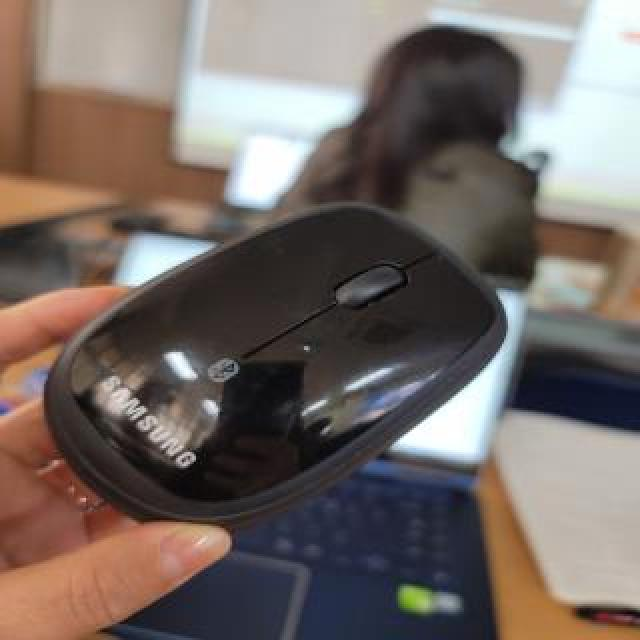mouse: (54, 208, 484, 507)
